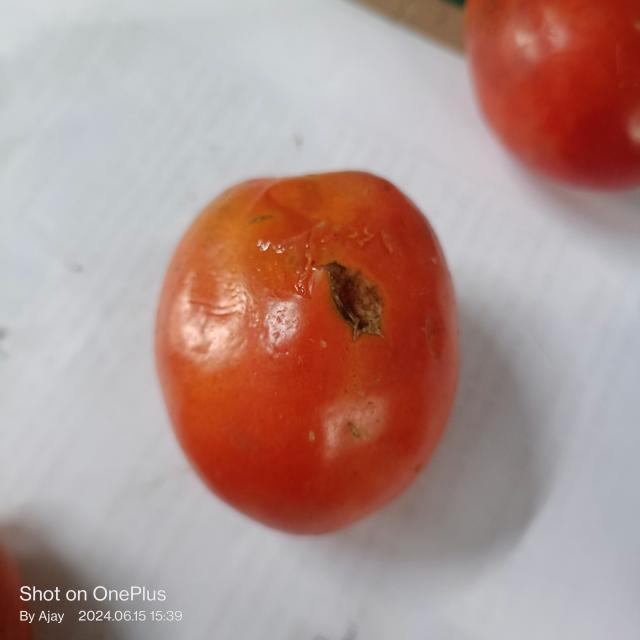Botrytis: (326, 252, 380, 332)
